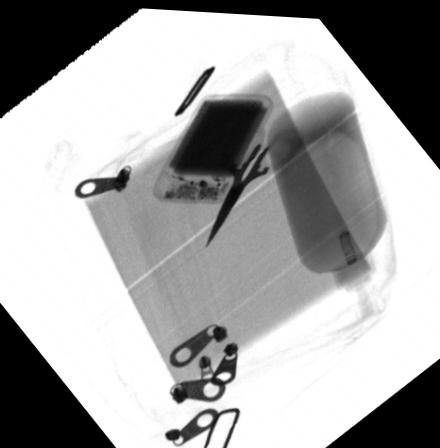Powerbank: (151, 91, 274, 203)
Scissors: (201, 108, 302, 250)
